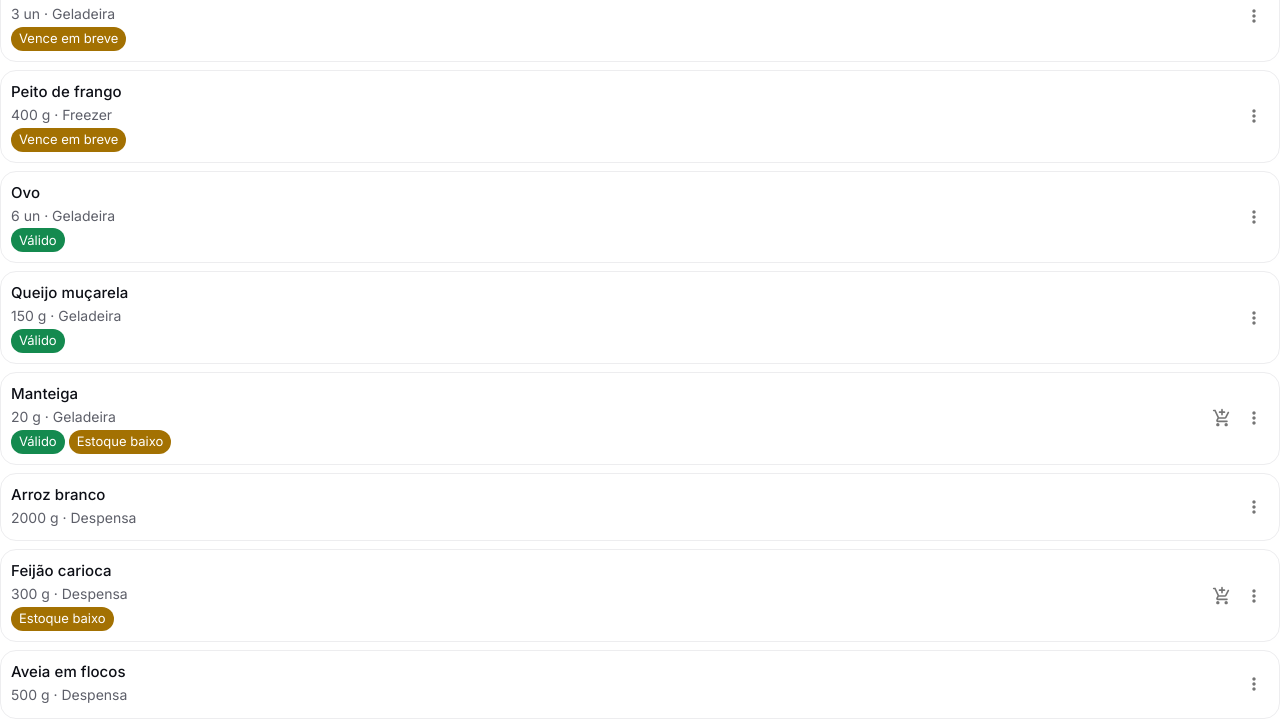
PantryPage › shows a quick "Adicionar às compras" action for a low-stock item
The image size is (1280, 719).
(page scrolled)
Expected: the text "Feijão carioca" is shown, x1=11 y1=561 x2=112 y2=580
Expected: the text "Estoque baixo" below "300" is shown, x1=19 y1=610 x2=106 y2=626
Click the button named "Adicionar às compras" in the row of "300": {"x": 1222, "y": 596} x1=1207 y1=581 x2=1237 y2=611
(page scrolled)
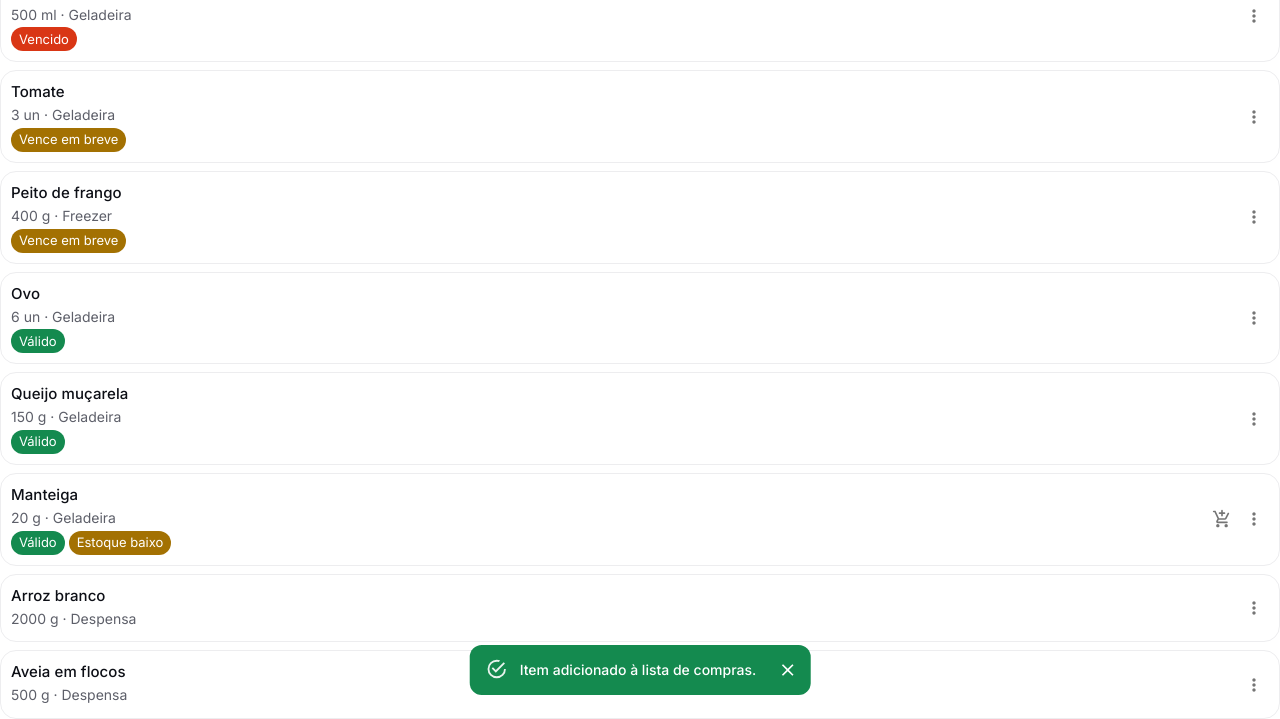
Result: the text "Item adicionado à lista de compras." is shown at x1=520 y1=661 x2=756 y2=678
